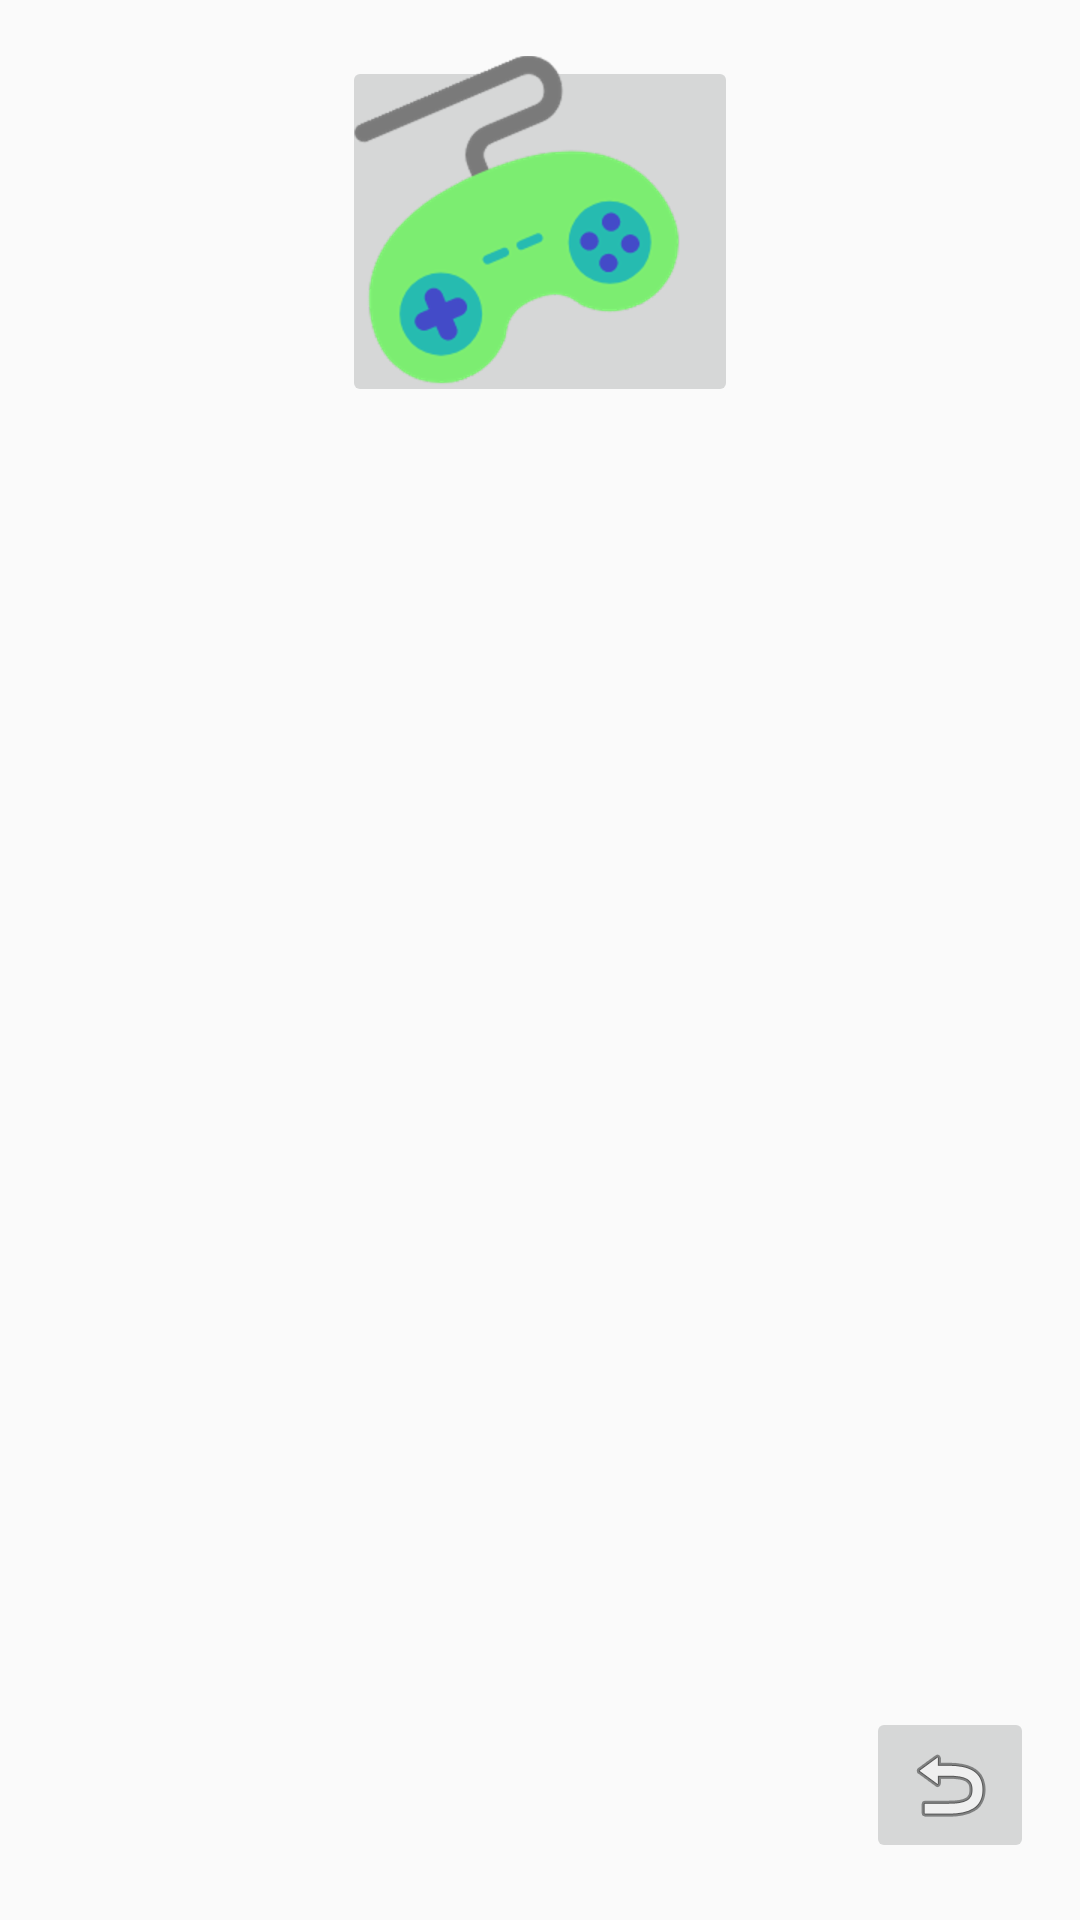

Screen size 1080w x 1920h. Icon name, then its box in pixels as region(x1, y1, x2, y2):
revert: region(878, 1725, 1022, 1845)
